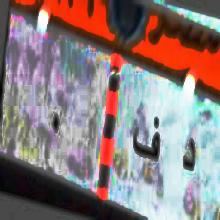0: (48, 104, 63, 141)
daal: (181, 131, 198, 178)
faa: (130, 107, 162, 173)
